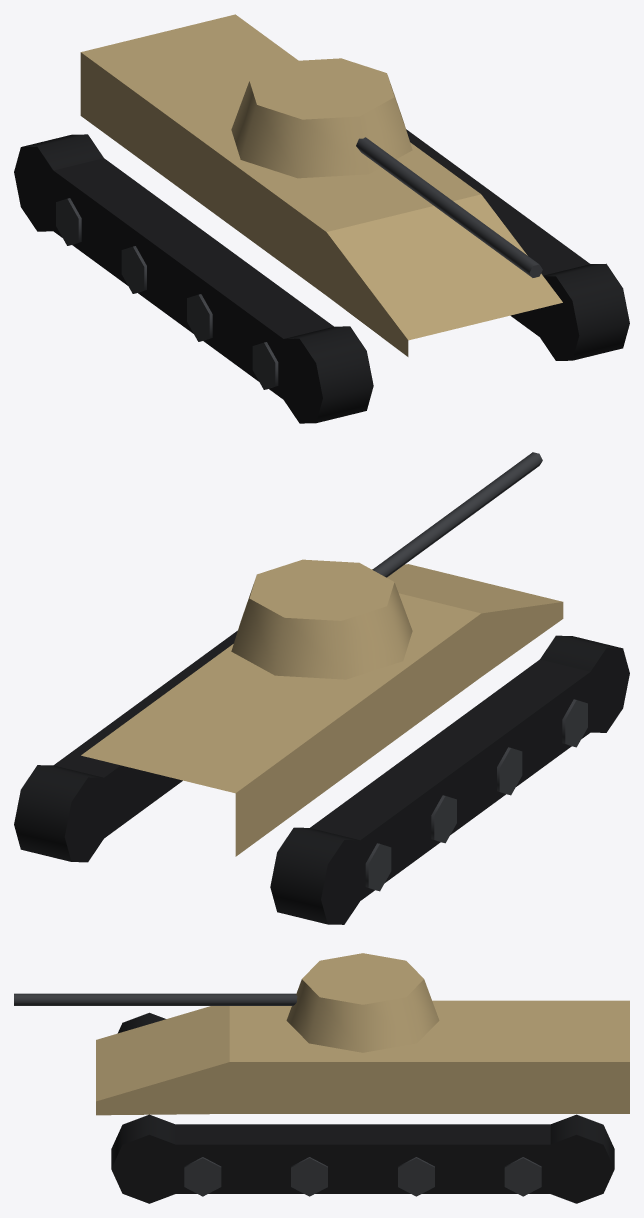
The model's file is veh_ground_tank_light_a07.glb.
3 renders of one model, top to bottom at view 1: azimuth 30°, elevation 25°; view 2: azimuth 150°, elevation 25°; view 3: azimuth 270°, elevation 25°, orthographic. The views are drawn at different scales.
Visible parts, largest first — view 1: body, track_r, turret, track_l; view 2: body, track_r, turret, track_l; view 3: body, track_l, turret, track_r.
Boxes of the visible parts, x1,y1,x2,y2 form: body: [80, 14, 562, 356]; track_r: [14, 134, 373, 423]; turret: [231, 58, 542, 277]; track_l: [406, 129, 629, 360]; body: [81, 564, 563, 856]; track_r: [270, 635, 629, 924]; turret: [231, 452, 542, 679]; track_l: [14, 630, 237, 862]; body: [96, 1000, 629, 1115]; track_l: [111, 1114, 614, 1203]; turret: [14, 953, 439, 1052]; track_r: [117, 1012, 165, 1033].
Size of what is drawn, in the model's own units: 3.27 by 2.01 by 6.85.
